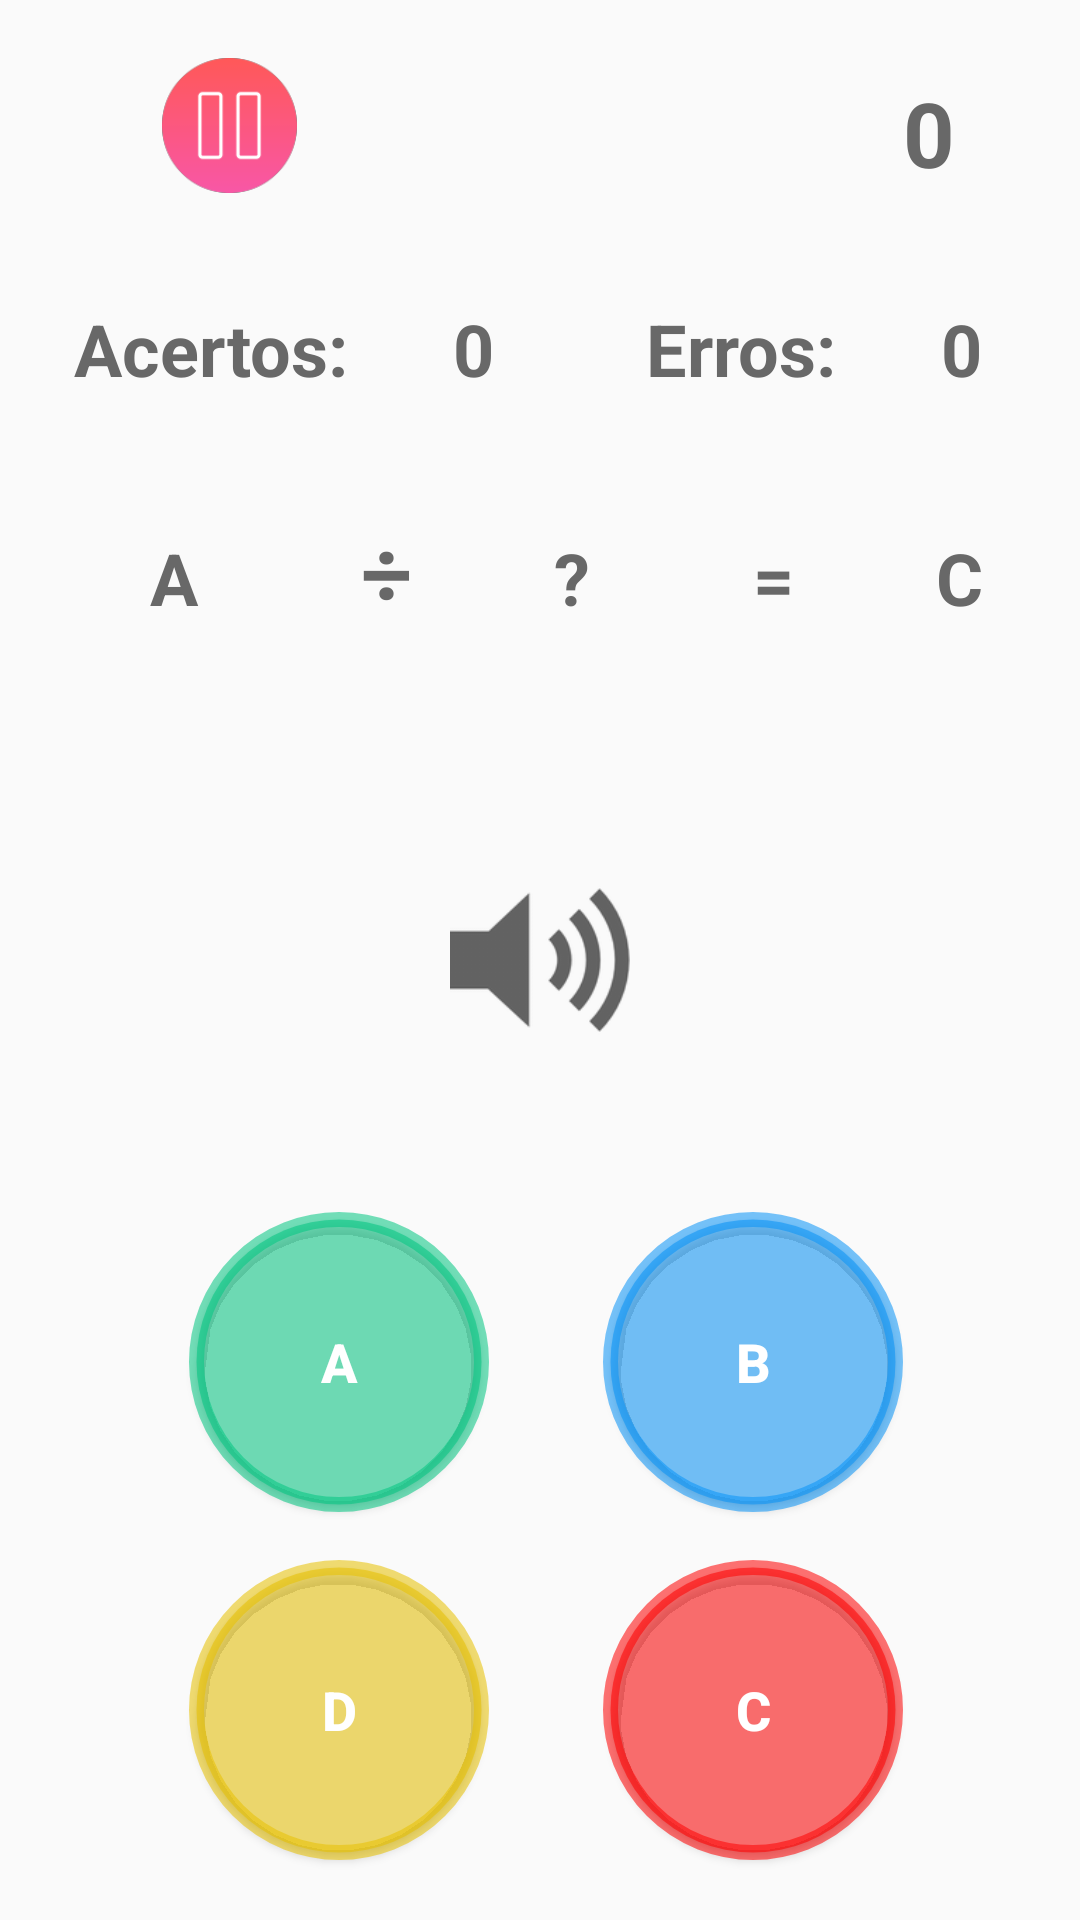

Screen size 1080px×1920px. Icon name, then its center in pixels as (x=x, y=y):
audio: (x=540, y=960)
pause: (x=229, y=125)
